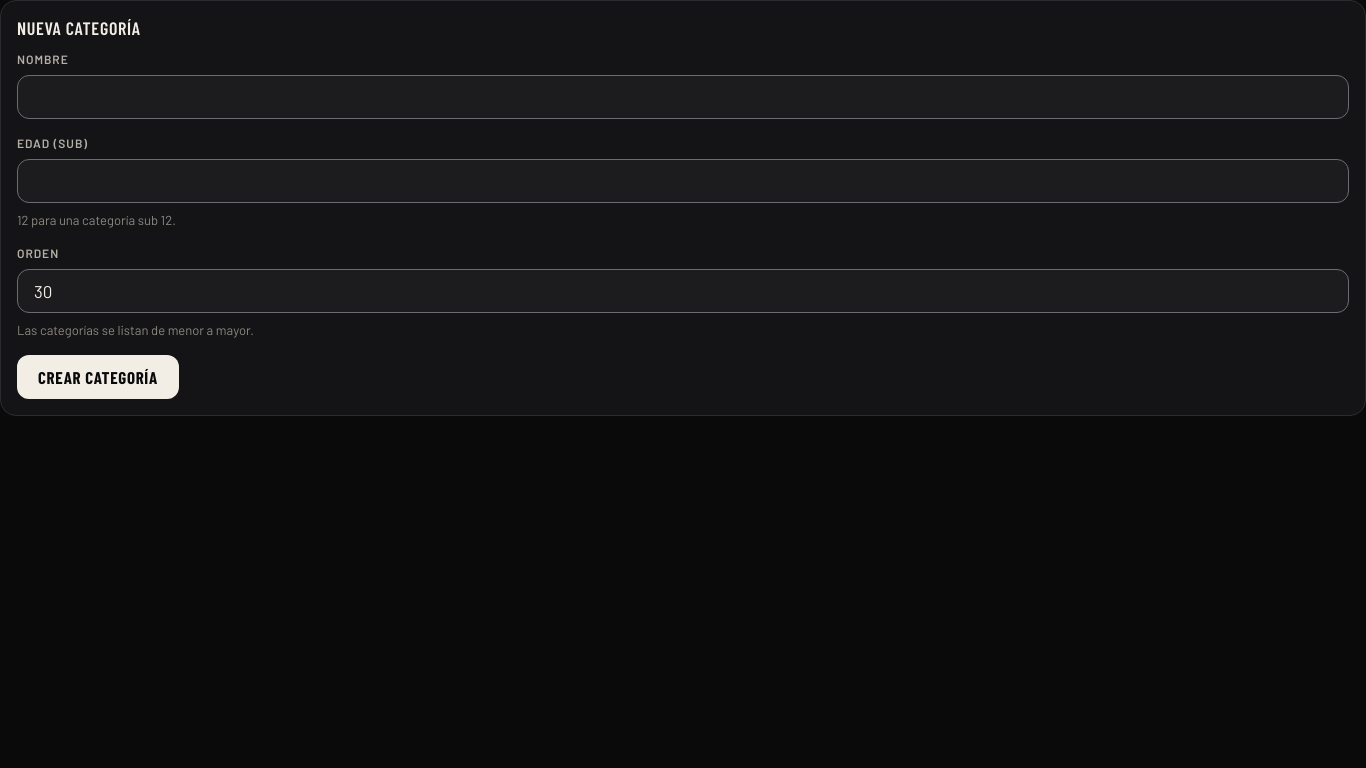
CategoryEditor · una categoría nueva › entrada inválida: el aviso general y cada error bajo su campo, enlazado; no vacía nada
In the field labelled "Nombre": (683, 97) left=17, top=75, right=1349, bottom=119, type "Mayores"
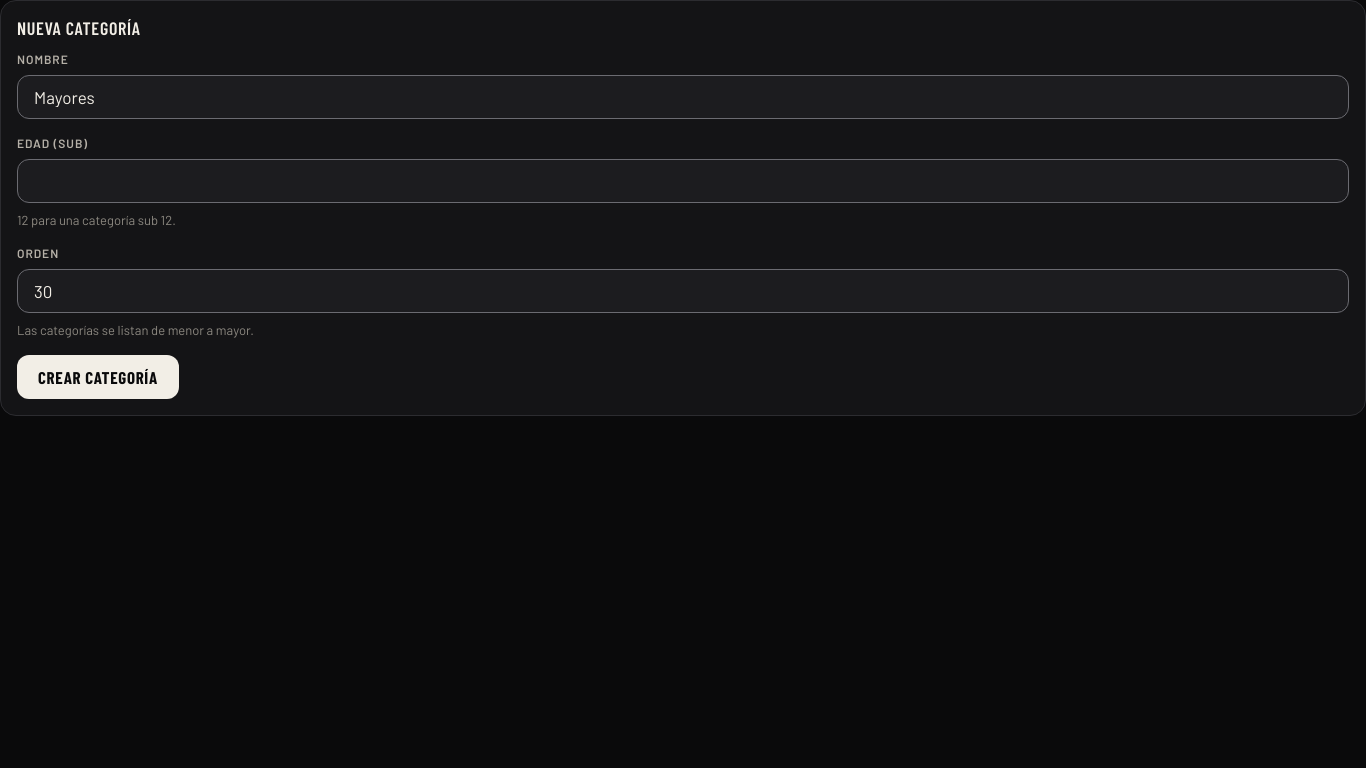
In the number field labelled "Edad (sub)": (683, 181) left=17, top=159, right=1349, bottom=203, type "160"
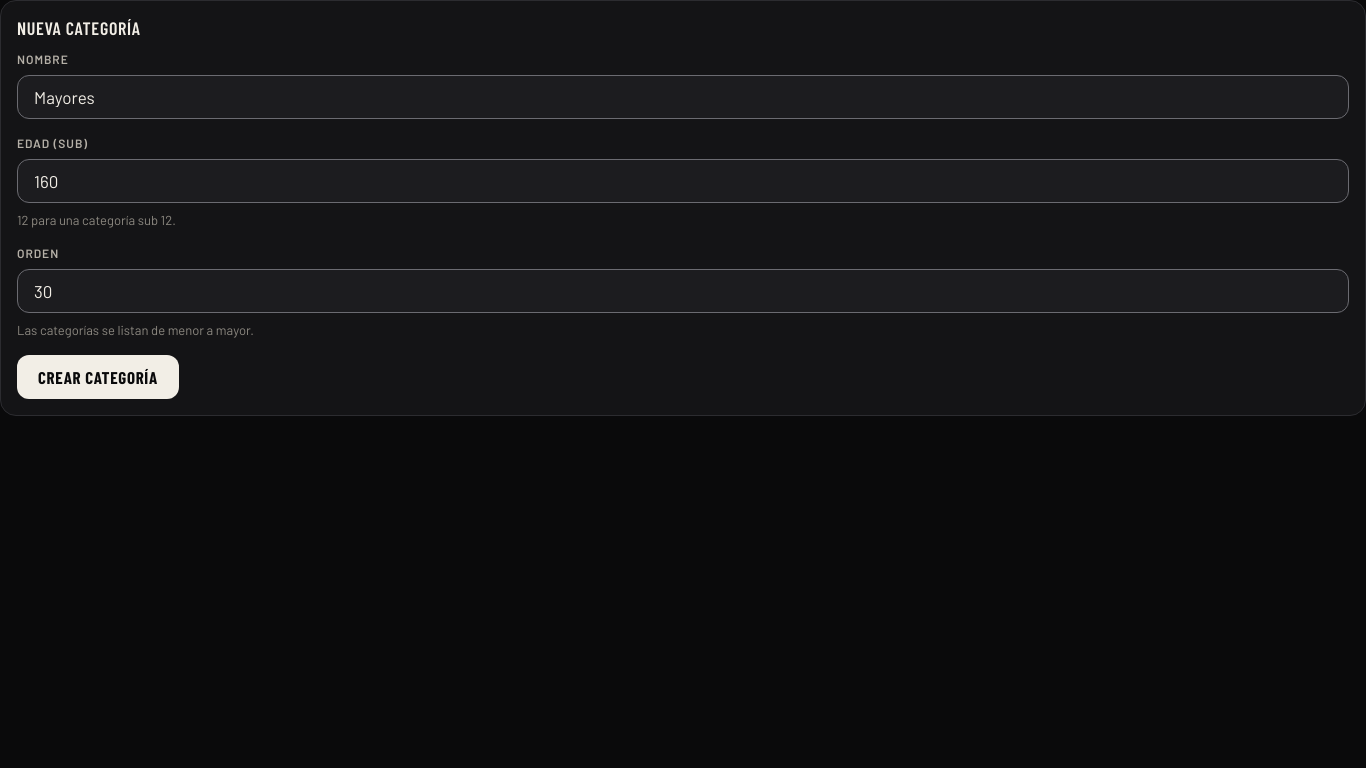
Click the button "Crear categoría": (98, 377) left=17, top=355, right=179, bottom=399
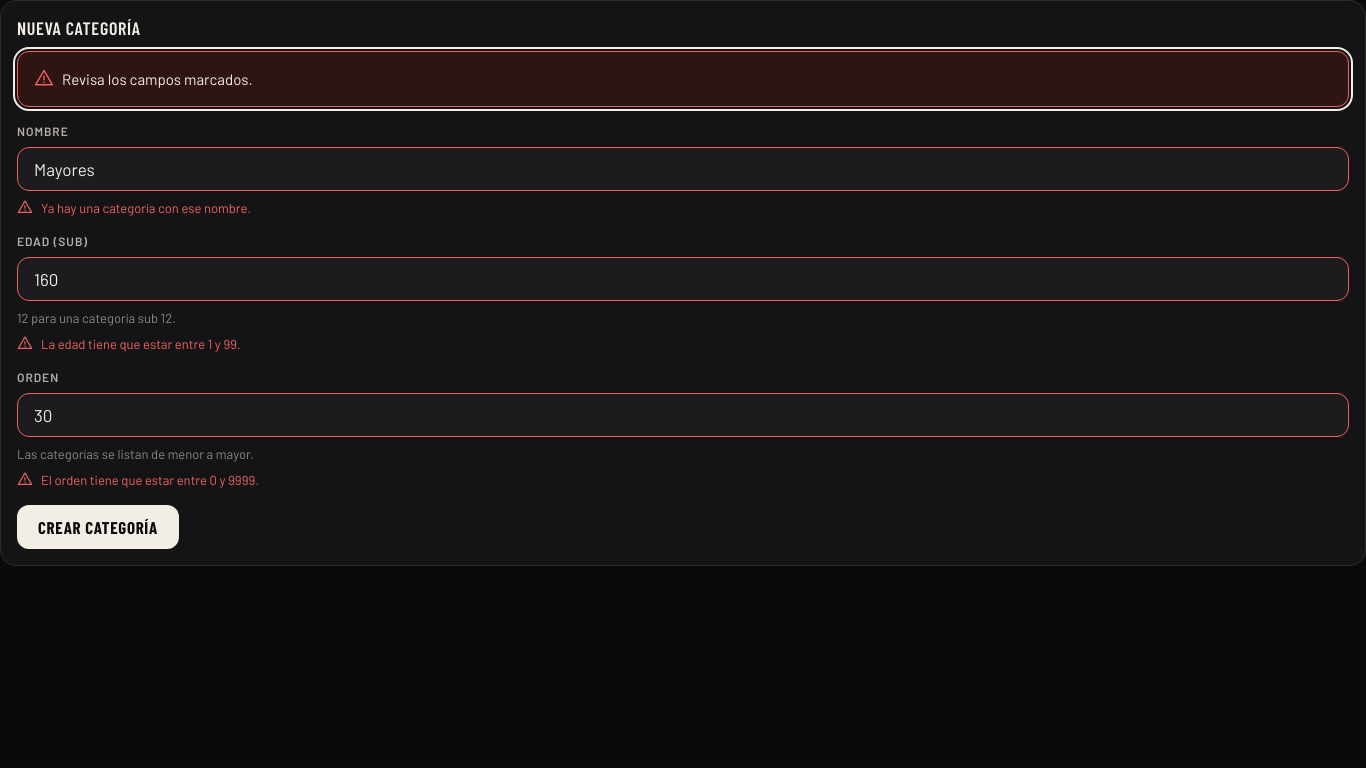
Expected: the text "Revisa los campos marcados." is shown, left=34, top=68, right=253, bottom=88
